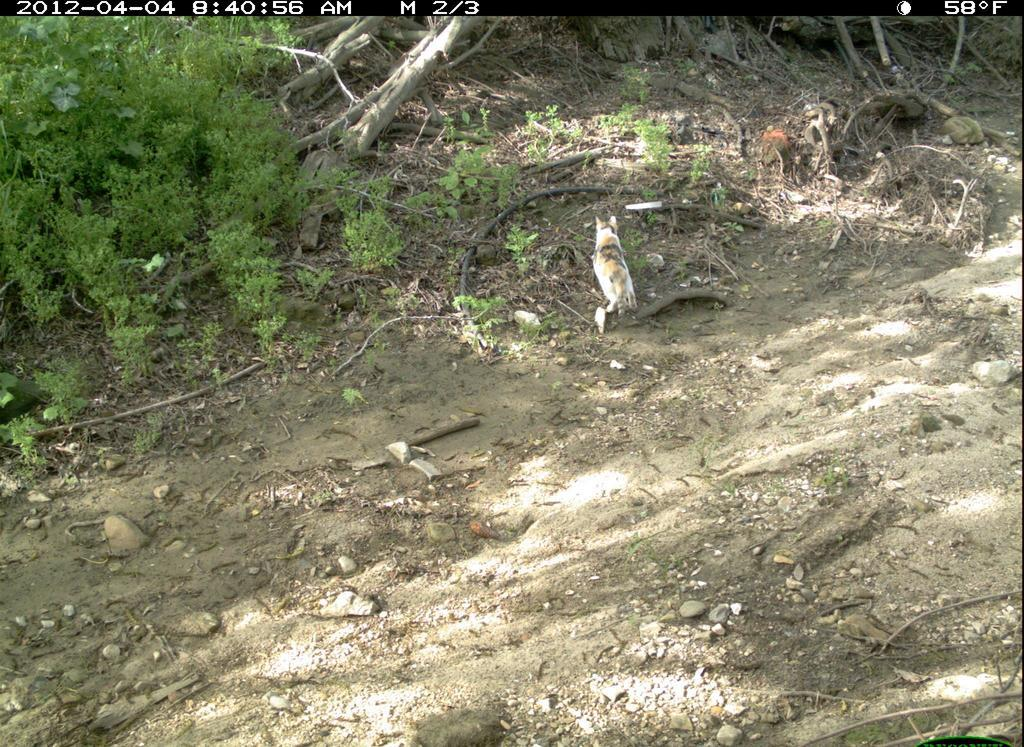cat: (568, 191, 652, 351)
